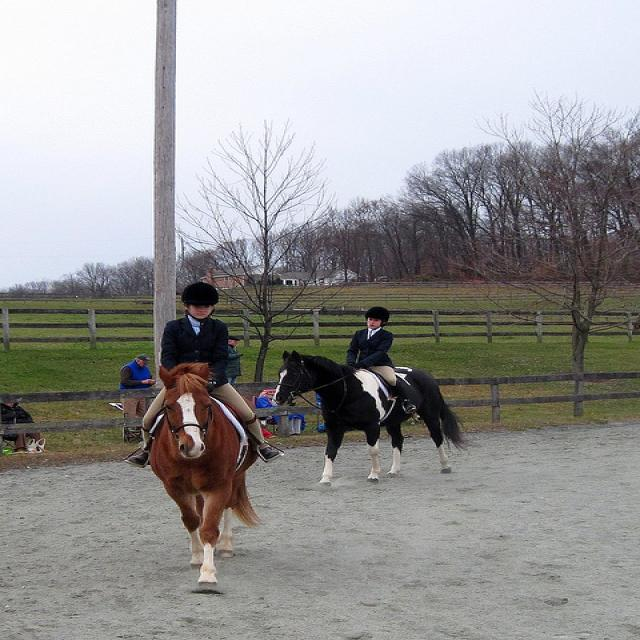Vehicle: (281, 279, 301, 286)
